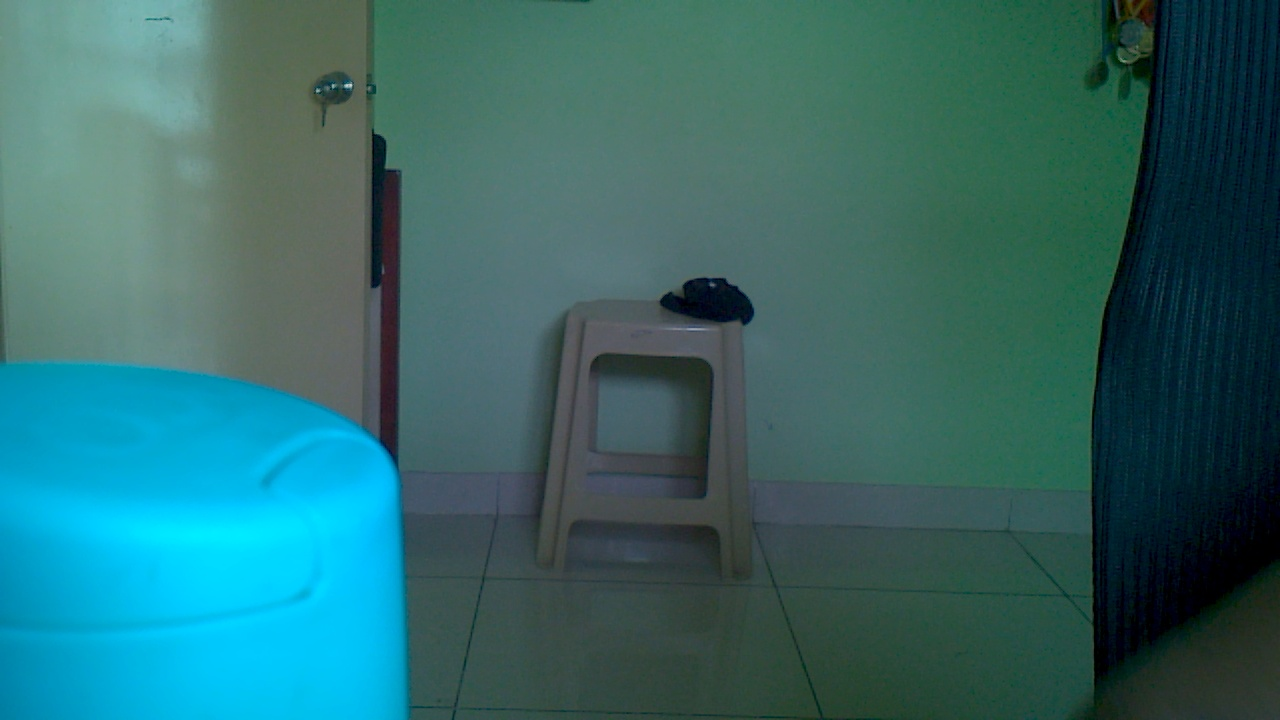waterbottle: (1, 327, 441, 720)
